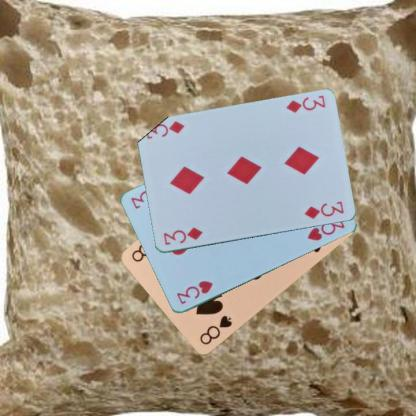3d: (160, 224, 204, 247), (283, 93, 327, 114)
3h: (174, 278, 214, 306)
8s: (197, 312, 233, 346)
